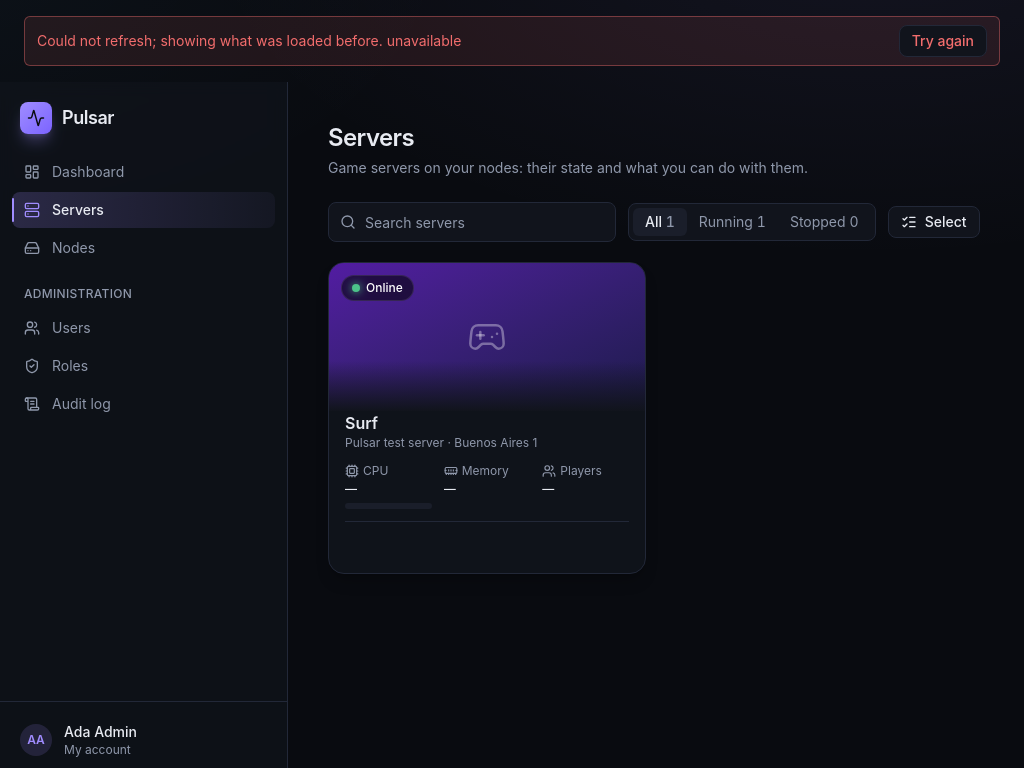
live channel and session › keeps the page when reading the session again fails
Expected: the text "Could not refresh" is shown, top-left (37, 32), bottom-right (461, 49)
Expected: the list named "Servers" is shown, top-left (328, 262), bottom-right (646, 574)
Click the button "Try again": {"x": 943, "y": 41} top-left (899, 25), bottom-right (987, 57)
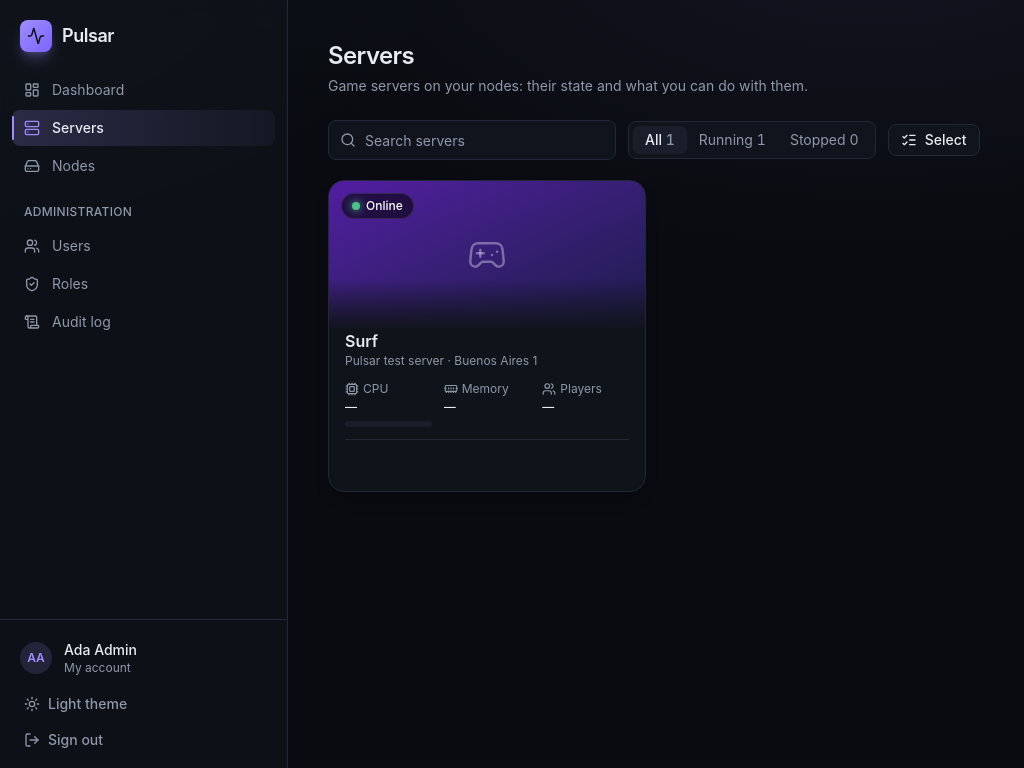
Now the text "Could not refresh" is gone
